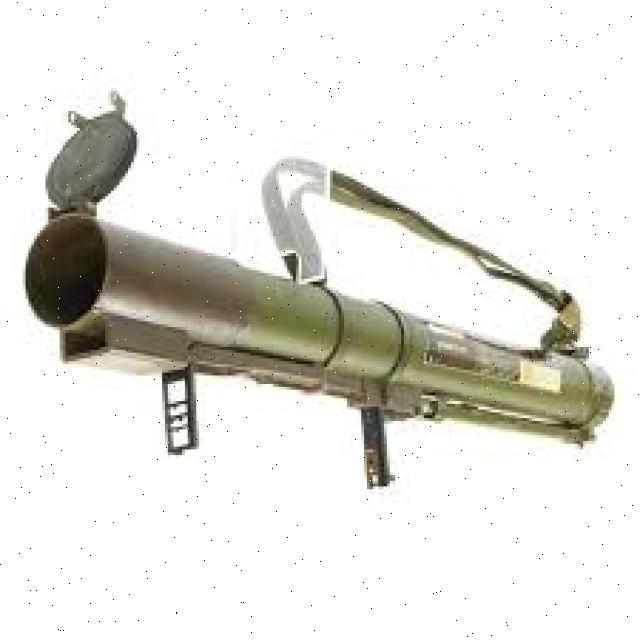bazooka: (17, 84, 622, 505)
